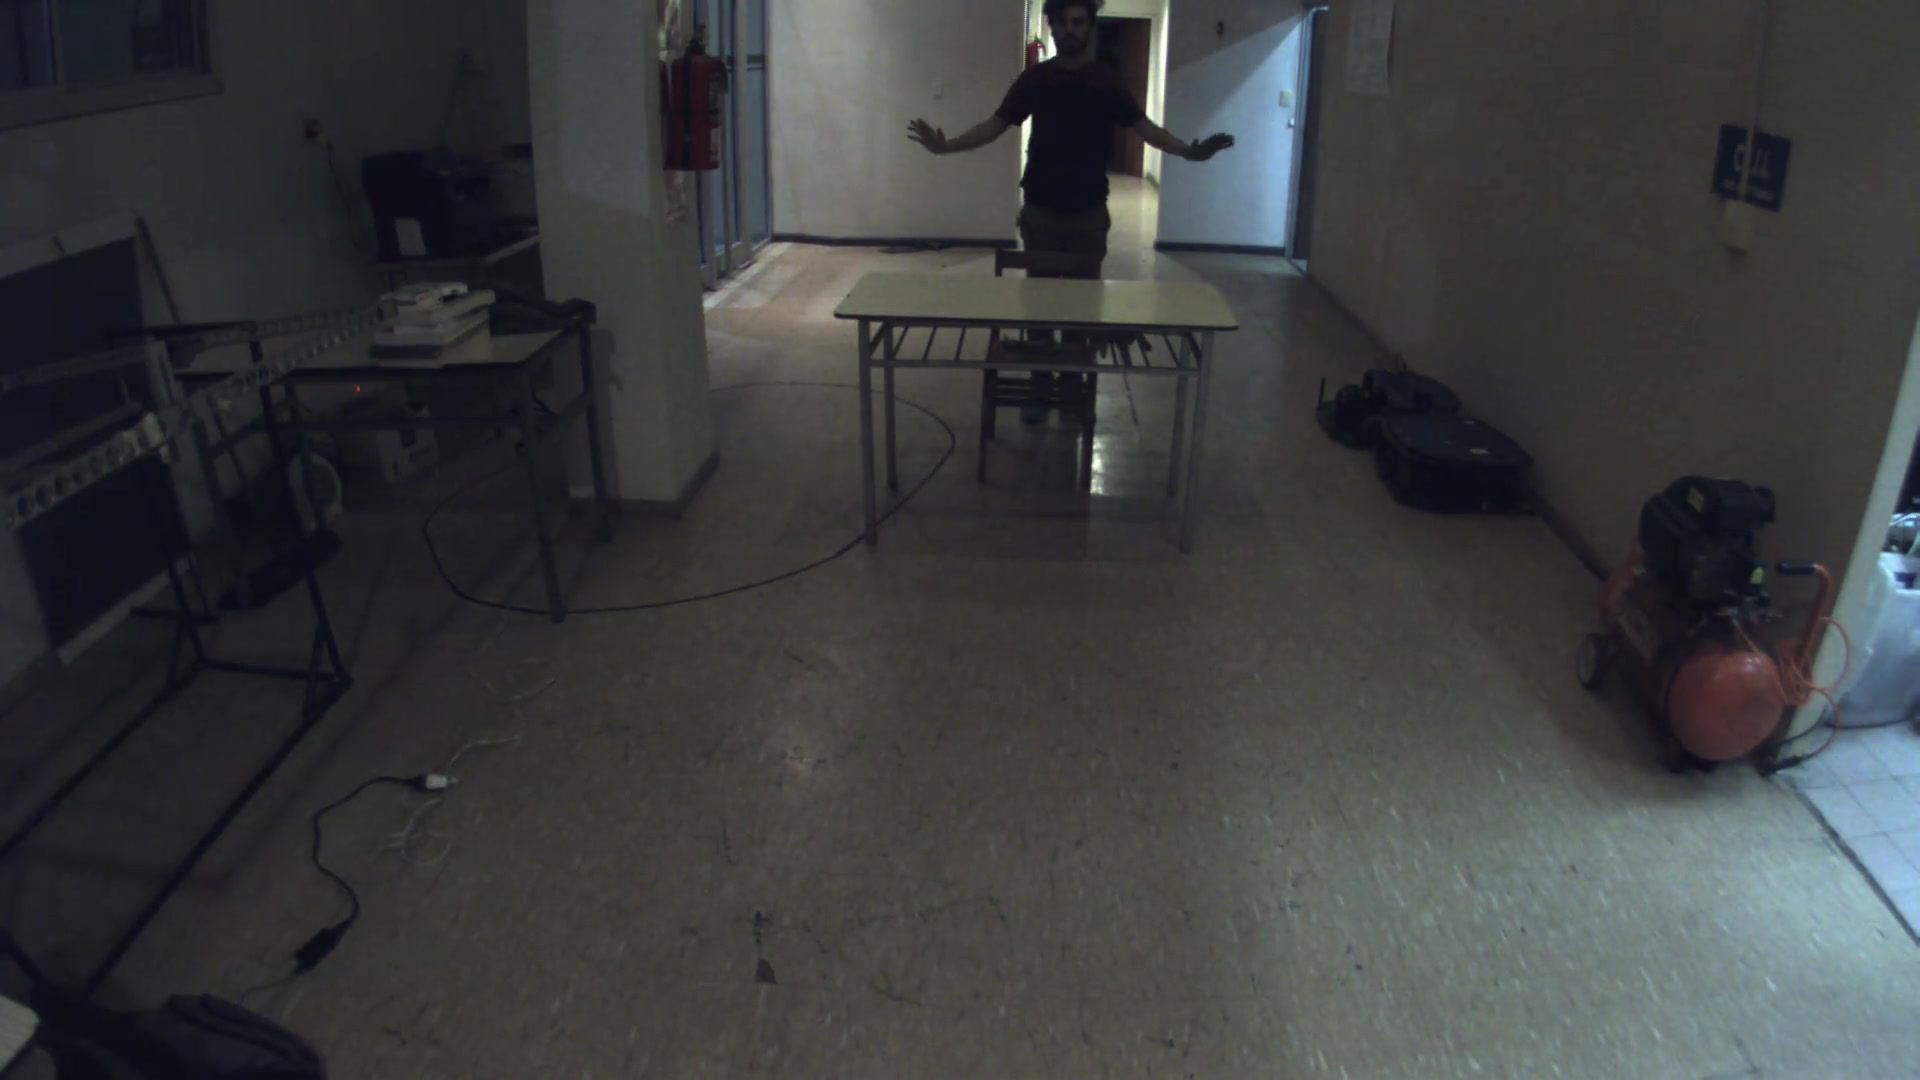hand: (1175, 123, 1247, 167), (899, 112, 959, 160)
